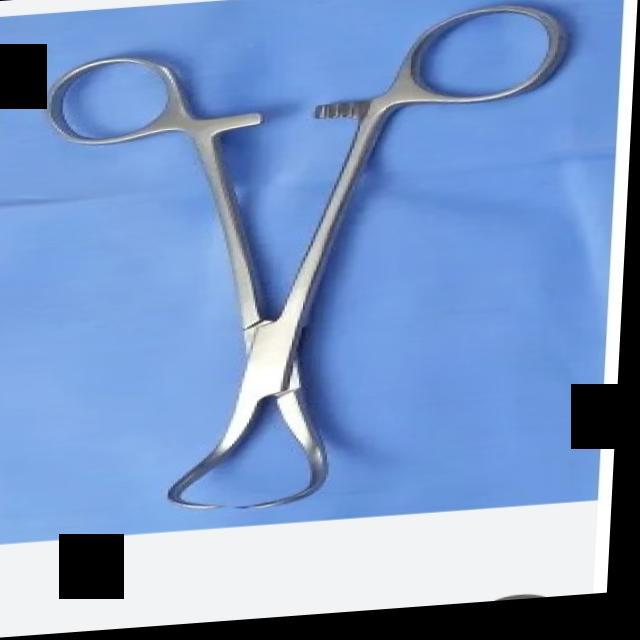Backhaus Towel Clamp: (21, 4, 580, 526)
